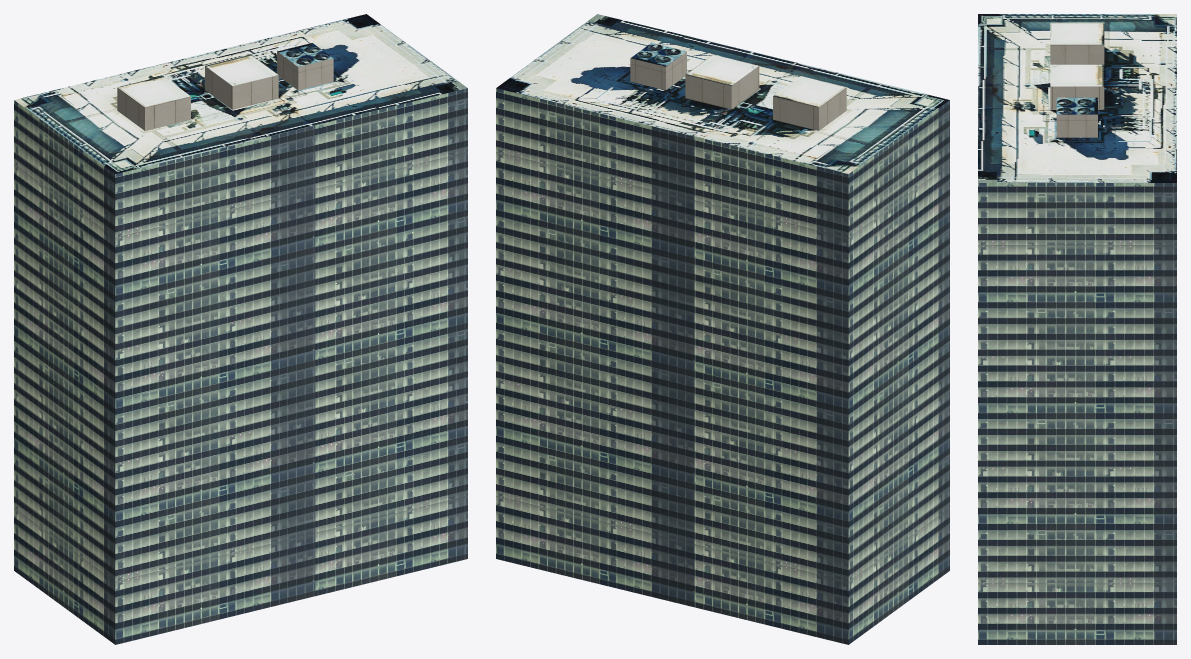
File: Highrise2.gltf
3 views of the same model, side by side, from view 1: azimuth 30°, elevation 25°; view 2: azimuth 150°, elevation 25°; view 3: azimuth 270°, elevation 25° (orthographic).
Visible parts, largest first — view 1: Highrise2; view 2: Highrise2; view 3: Highrise2.
Boxes of the visible parts, x1,y1,x2,y2 form: Highrise2: (14,14,467,644); Highrise2: (496,14,949,644); Highrise2: (978,14,1176,644).
Bounding box in the file's own units: 78.36 × 105 × 39.01.
Materials: 1 (1 with a texture image).
